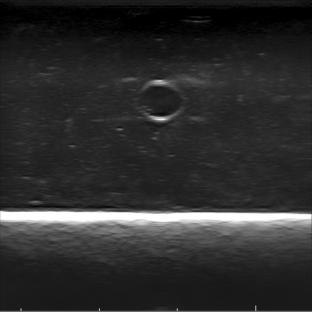vessel: (136, 78, 185, 122)
